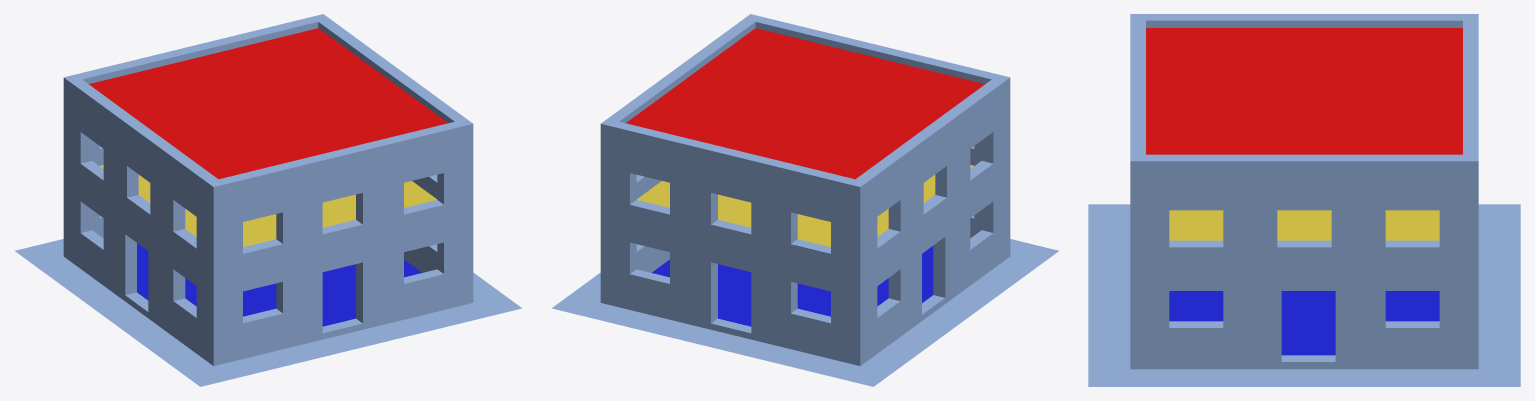
3 renders of one model, left to right at view 1: azimuth 30°, elevation 25°; view 2: azimuth 150°, elevation 25°; view 3: azimuth 270°, elevation 25°, orthographic. The views are drawn at different scales.
Parts seen in each view (by area): view 1: Walls, Floor3, Floor1, Floor2; view 2: Walls, Floor3, Floor1, Floor2; view 3: Walls, Floor3, Floor1, Floor2.
Part boxes in pixels (x1=…): Walls: x1=15, y1=14, x2=521, y2=386; Floor3: x1=89, y1=28, x2=447, y2=179; Floor1: x1=137, y1=243, x2=421, y2=326; Floor2: x1=100, y1=165, x2=437, y2=247; Walls: x1=552, y1=14, x2=1058, y2=386; Floor3: x1=626, y1=28, x2=984, y2=179; Floor1: x1=652, y1=246, x2=933, y2=326; Floor2: x1=636, y1=165, x2=973, y2=247; Walls: x1=1088, y1=14, x2=1520, y2=386; Floor3: x1=1146, y1=28, x2=1462, y2=154; Floor1: x1=1169, y1=291, x2=1439, y2=355; Floor2: x1=1169, y1=210, x2=1439, y2=240.
Size of what is drawn, in the model's own units: 16 by 8.5 by 16.
